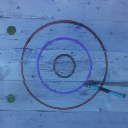Axe Tip: (87, 82, 98, 84)
